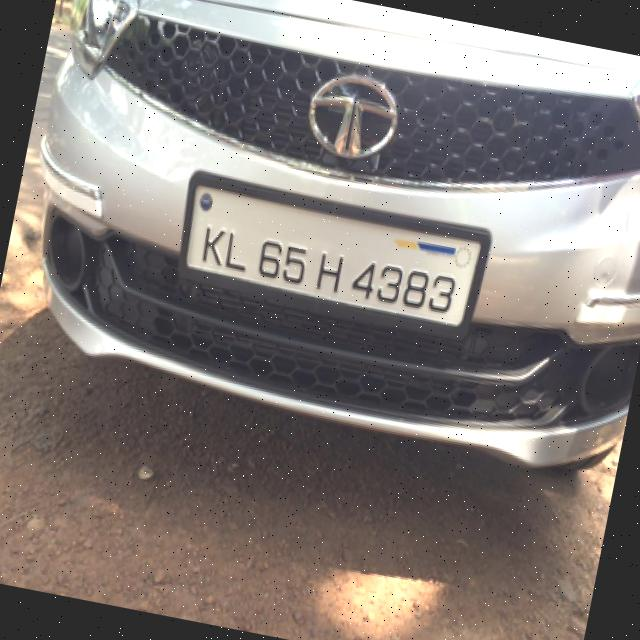Autre: (174, 176, 492, 332)
